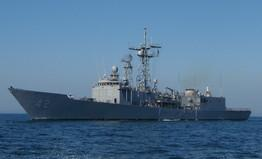warship: (9, 28, 253, 122)
